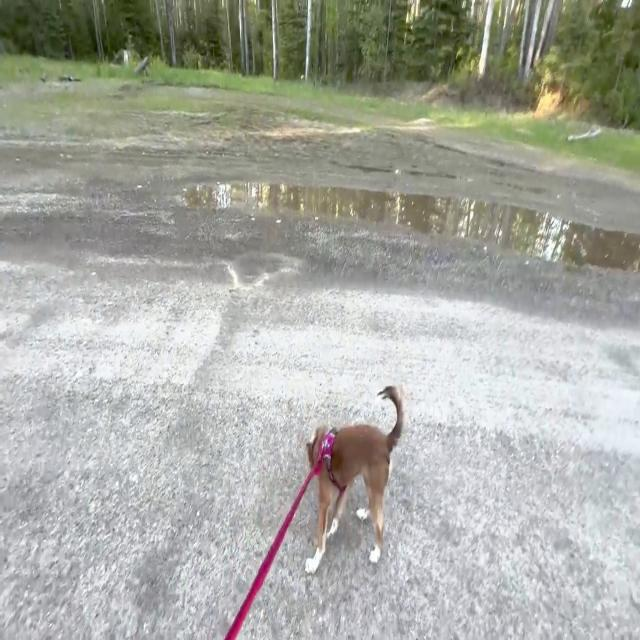Dog: (305, 385, 408, 573)
